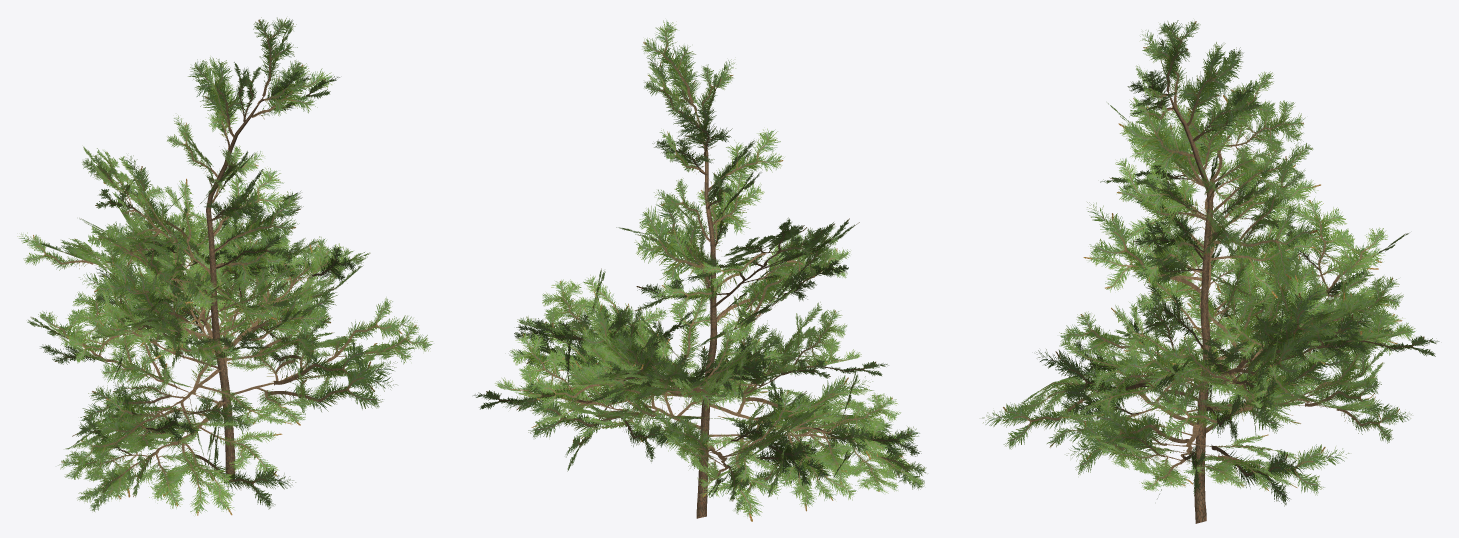
3 renders of one model, left to right at view 1: azimuth 30°, elevation 25°; view 2: azimuth 150°, elevation 25°; view 3: azimuth 270°, elevation 25°, orthographic. The views are drawn at different scales.
Visible parts, largest first — view 1: Pine_sapling_2_LOD0_Clusters_Mat_0; view 2: Pine_sapling_2_LOD0_Clusters_Mat_0; view 3: Pine_sapling_2_LOD0_Clusters_Mat_0.
Boxes of the visible parts, x1,y1,x2,y2 form: Pine_sapling_2_LOD0_Clusters_Mat_0: (17,17,432,515); Pine_sapling_2_LOD0_Clusters_Mat_0: (473,20,926,521); Pine_sapling_2_LOD0_Clusters_Mat_0: (982,20,1439,523).
Size of the model in its own units: 1.37 by 1.56 by 1.27.
